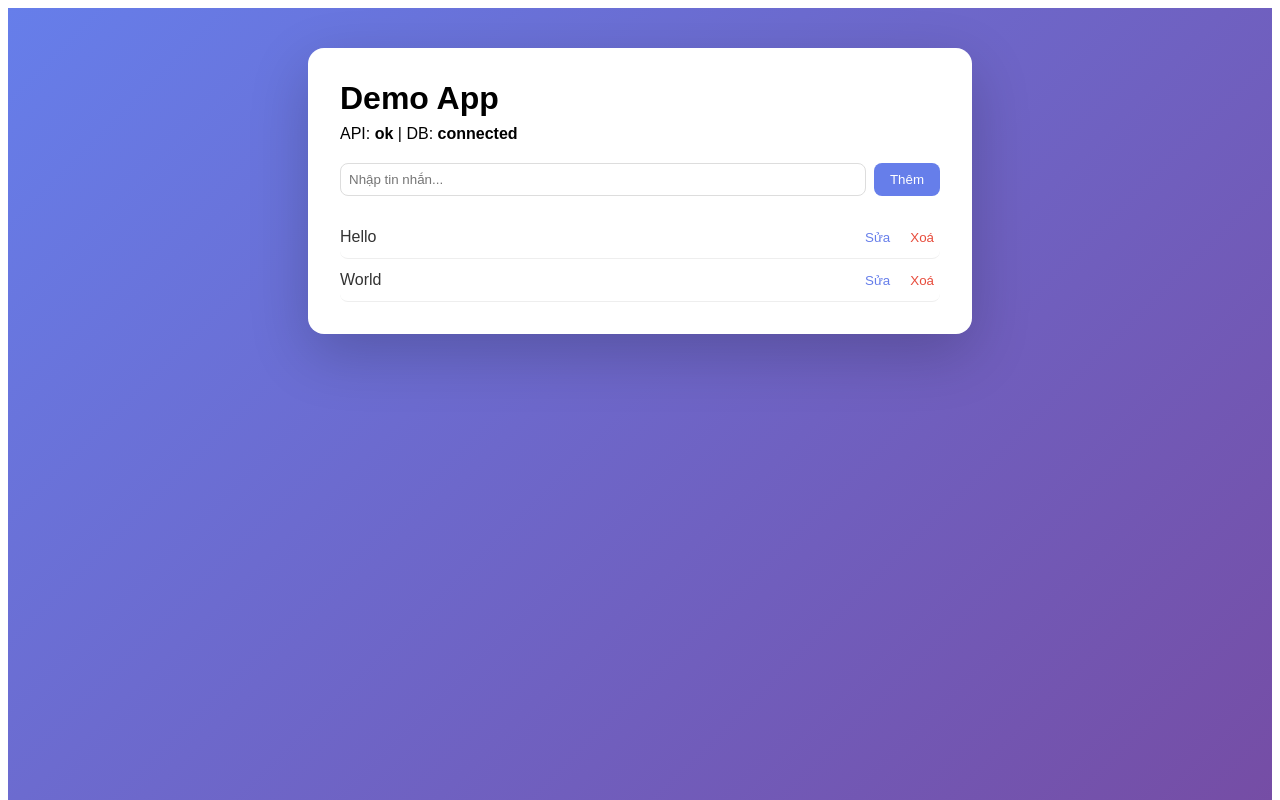
it: App - sửa message › input chỉnh sửa chứa nội dung gốc của message
Check: the text "World" is shown, box x1=340 y1=271 x2=382 y2=289
Click the button "Sửa" in the row of "World". click: (878, 280)
box: x1=859 y1=272 x2=896 y2=288
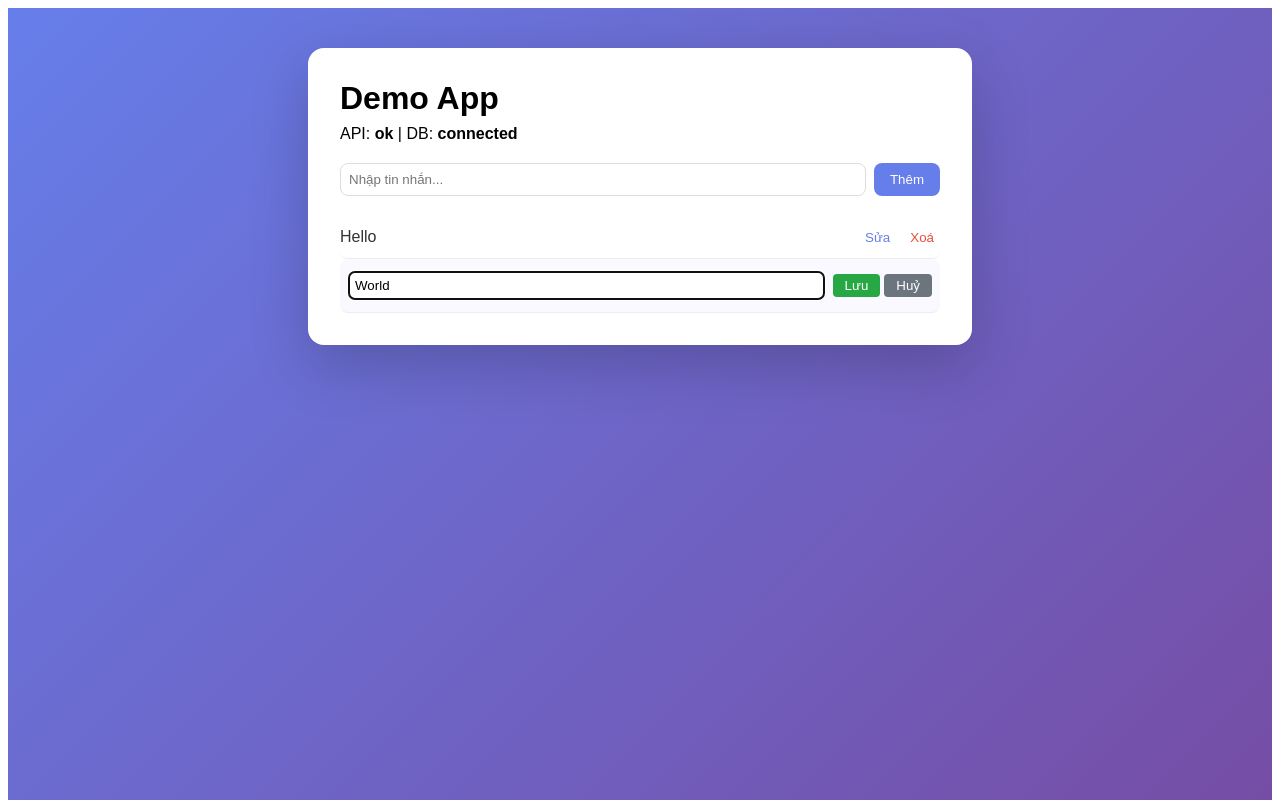
Check: the field showing "World" is shown, box x1=348 y1=271 x2=824 y2=300
